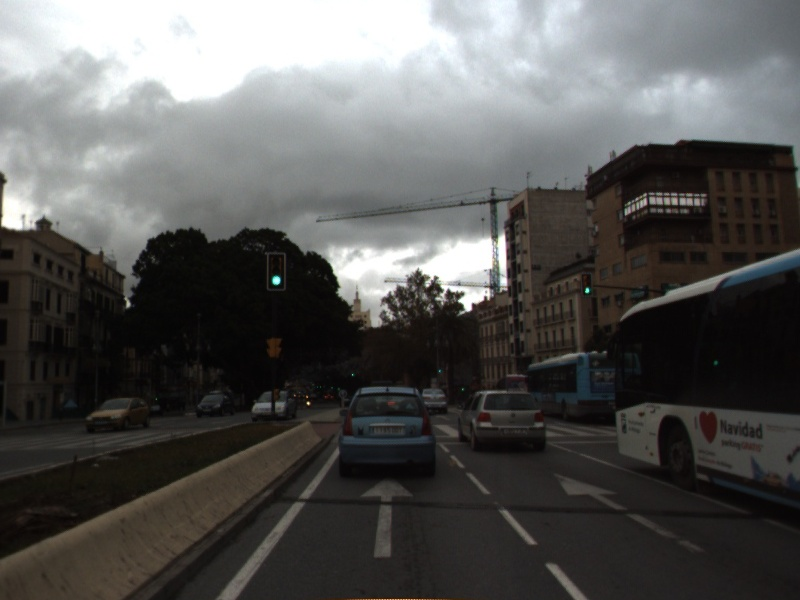STRAIGHT: (551, 471, 709, 556), (357, 472, 417, 560)
